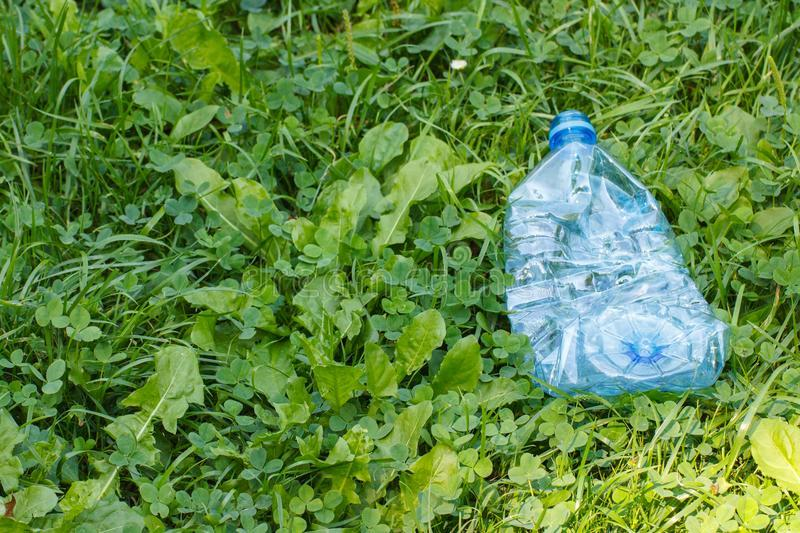bottle: (499, 104, 739, 412)
